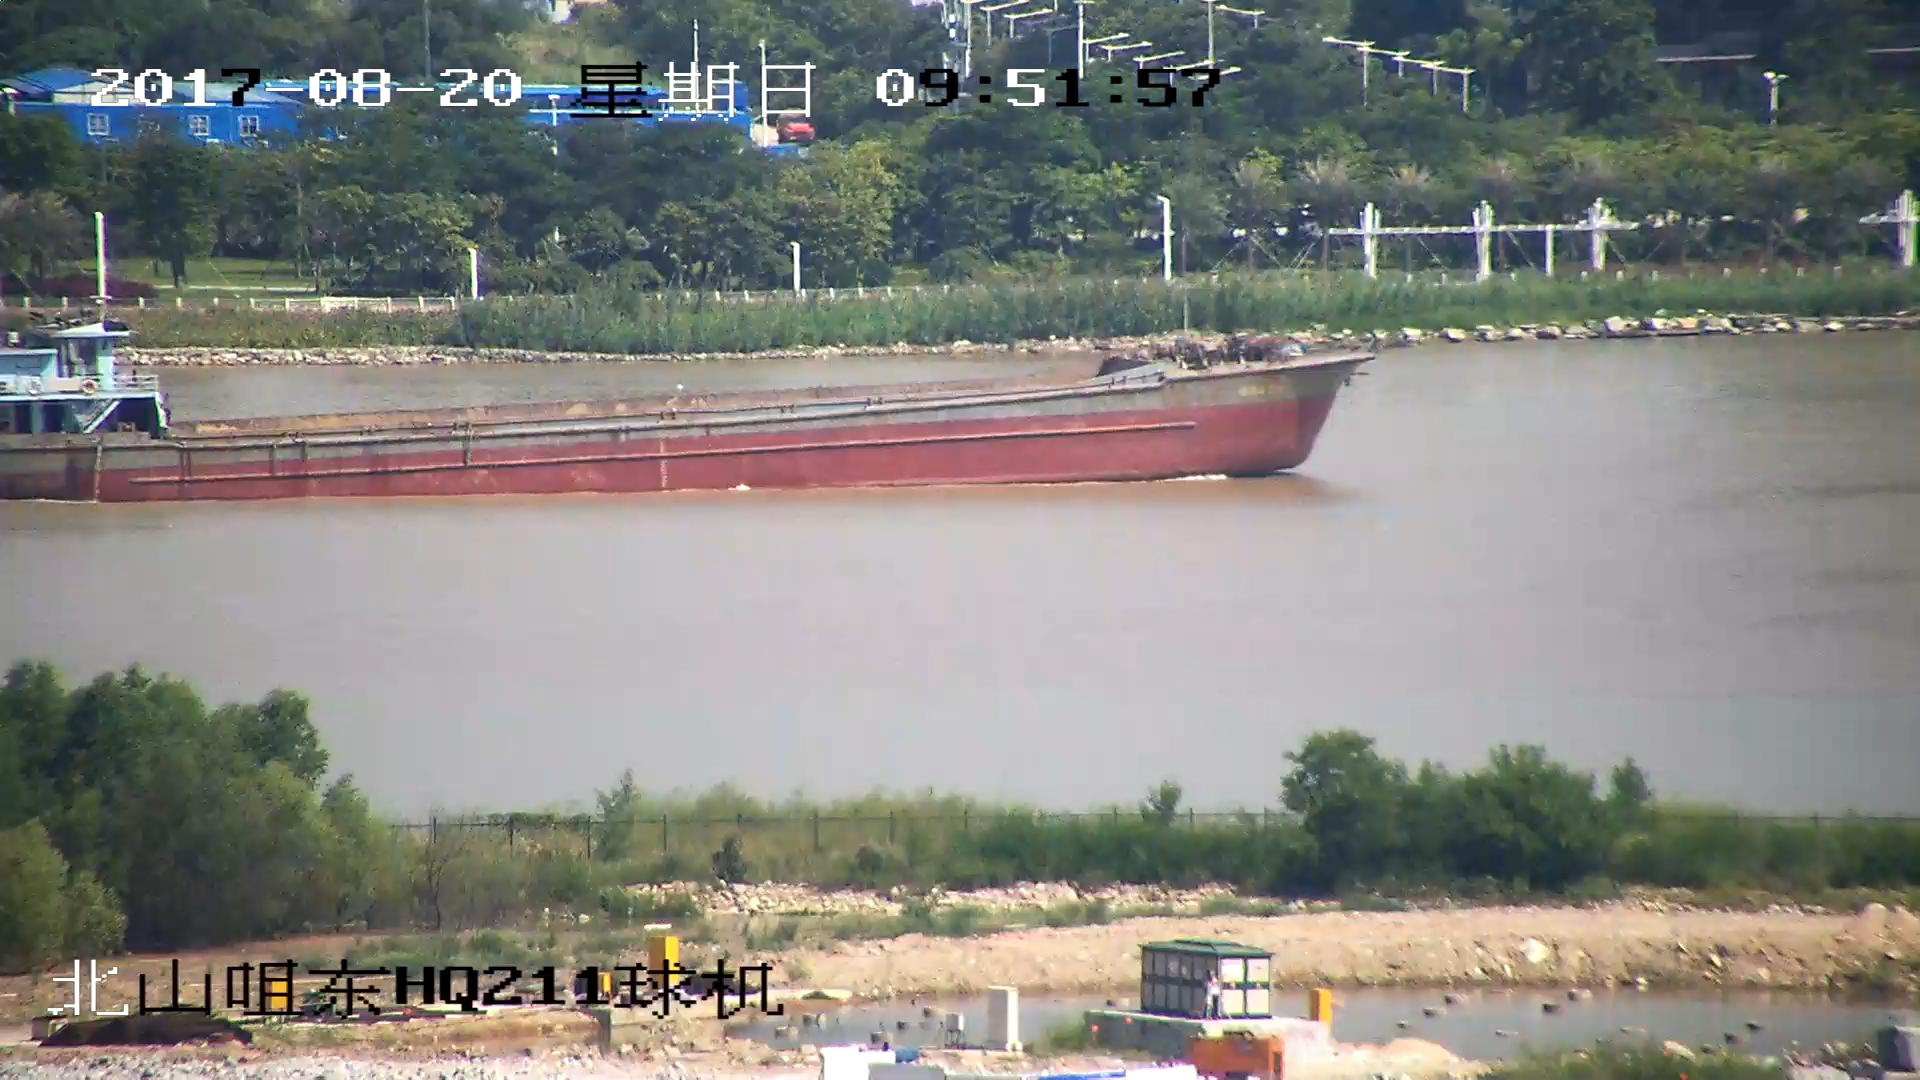bulk cargo carrier: (1, 311, 1359, 501)
